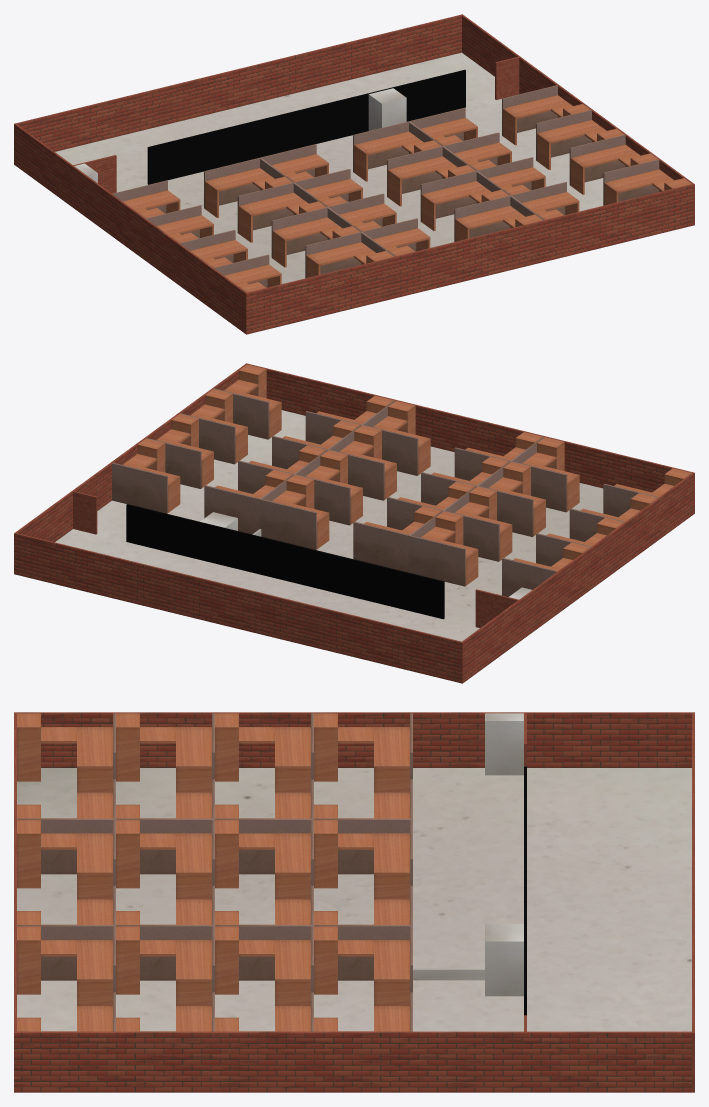
Rendered from office_6.DAE.
3 renders of one model, top to bottom at view 1: azimuth 30°, elevation 25°; view 2: azimuth 150°, elevation 25°; view 3: azimuth 270°, elevation 25°, orthographic. The views are drawn at different scales.
Visible parts, largest first — view 1: Box007, Box010, Box008, Box015, Box011, Box009, Box155, Box438, Box427, Box384, Box399, Box359 (+45 smaller); view 2: Box008, Box007, Box015, Box010, Box011, Box009, Box368, Box359, Box340, Box471, Box463, Box449 (+32 smaller); view 3: Box007, Box009, Box011, Box155, Box154, Box410, Box421, Box404, Box341, Box428, Box443, Box459 (+65 smaller).
Boxes of the visible parts, x1,y1,x2,y2 form: Box007: (55, 52, 603, 283); Box010: (245, 184, 693, 334); Box008: (16, 14, 462, 151); Box015: (147, 69, 465, 184); Box011: (14, 123, 246, 333); Box009: (462, 15, 694, 225); Box155: (368, 88, 406, 130); Box438: (420, 171, 476, 221); Box427: (271, 207, 327, 258); Box384: (569, 134, 625, 185); Box399: (237, 182, 293, 233); Box359: (502, 85, 557, 135); Box008: (14, 532, 461, 683); Box007: (55, 410, 603, 641); Box015: (126, 504, 444, 619); Box010: (247, 363, 694, 513); Box011: (461, 473, 693, 683); Box009: (15, 363, 247, 542); Box368: (410, 535, 465, 586); Box359: (112, 462, 167, 513); Box340: (353, 521, 408, 572); Box471: (261, 499, 316, 549); Box463: (204, 485, 259, 534); Box449: (363, 425, 418, 475); Box007: (17, 768, 691, 1031); Box009: (14, 1031, 691, 1092); Box011: (17, 712, 694, 767); Box155: (485, 924, 523, 996); Box154: (485, 713, 523, 775); Box410: (17, 818, 115, 874); Box421: (116, 818, 214, 874); Box404: (215, 818, 313, 874); Box341: (314, 818, 412, 874); Box428: (116, 925, 214, 980); Box443: (17, 925, 115, 980); Box459: (215, 925, 313, 980).
Bounding box in the file's own units: 1264 × 1134 × 110.
7 materials, 6 textured.
